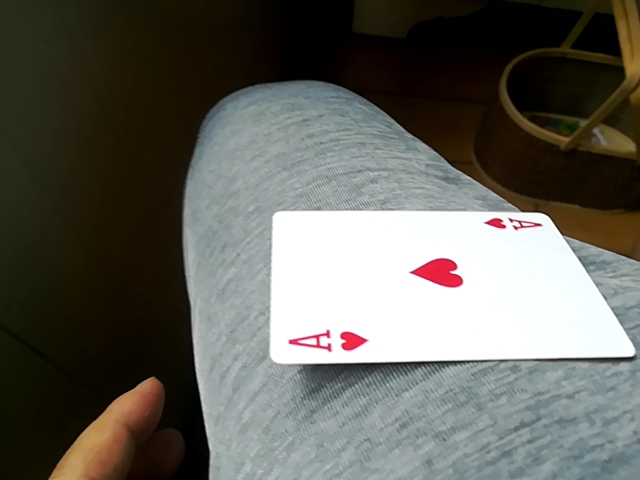hx a: (267, 208, 634, 367)
